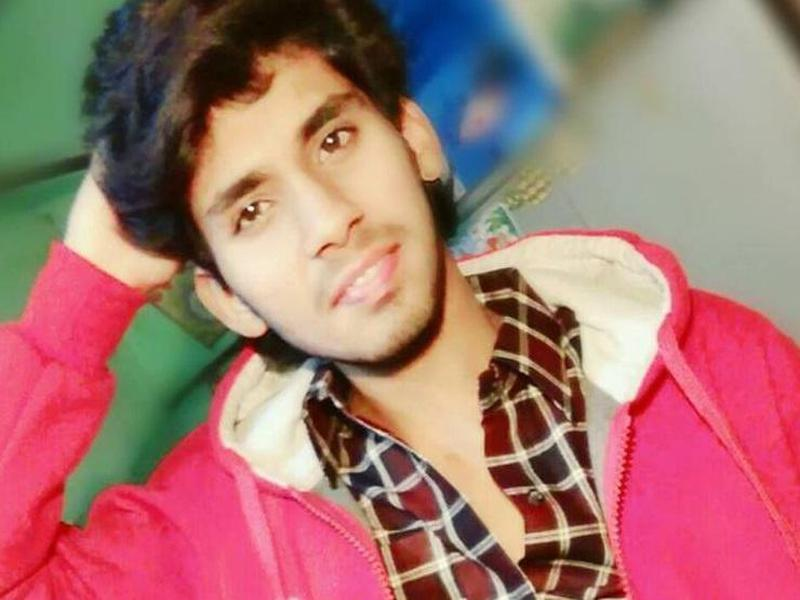without_mask: (169, 66, 441, 360)
